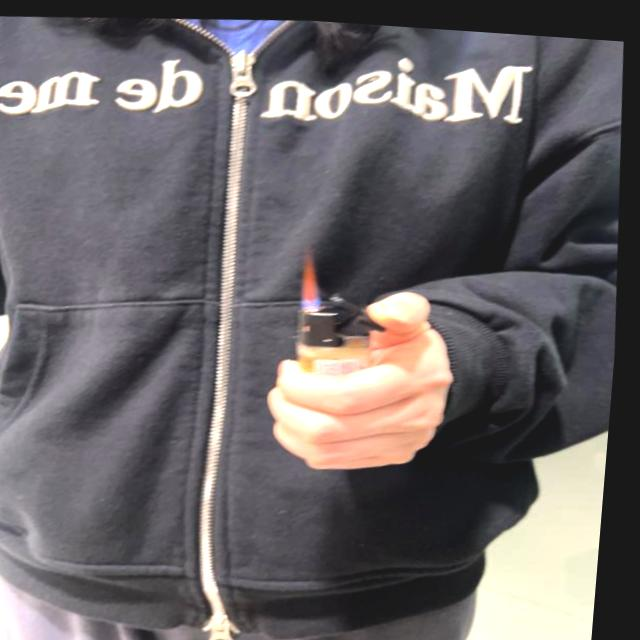helmet: (302, 244, 328, 306)
